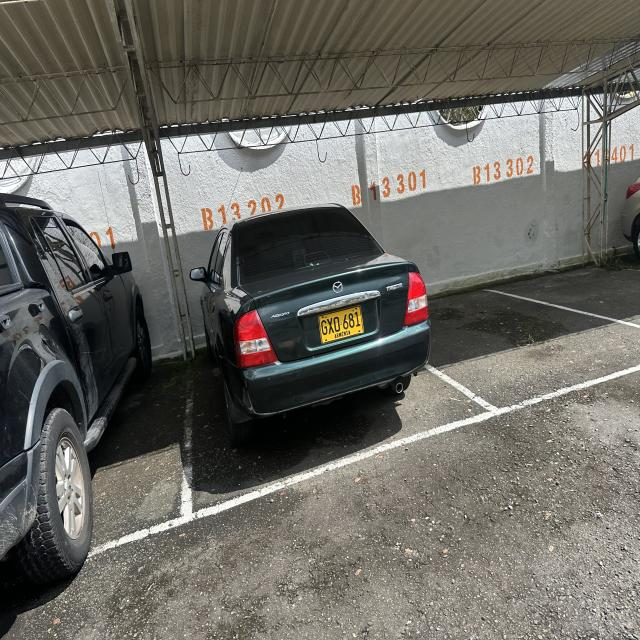number plate: (318, 305, 364, 343)
